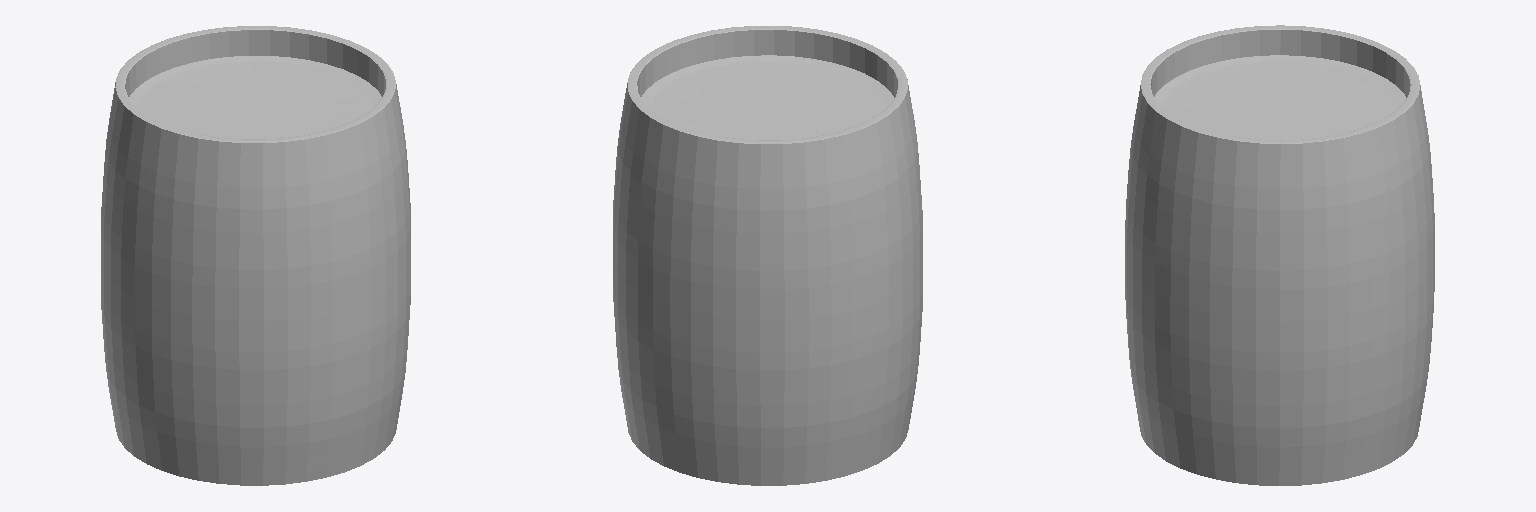
Rendered from barrelHP.obj.
The picture shows the model from 3 angles: view 1: azimuth 30°, elevation 25°; view 2: azimuth 150°, elevation 25°; view 3: azimuth 270°, elevation 25°; orthographic projection.
Parts seen in each view (by area): view 1: default; view 2: default; view 3: default.
Boxes of the visible parts, x1=… form: default: x1=101, y1=26, x2=410, y2=485; default: x1=613, y1=26, x2=922, y2=485; default: x1=1125, y1=25, x2=1434, y2=485.
Bounding box in the file's own units: 1.49 × 1.82 × 1.49.